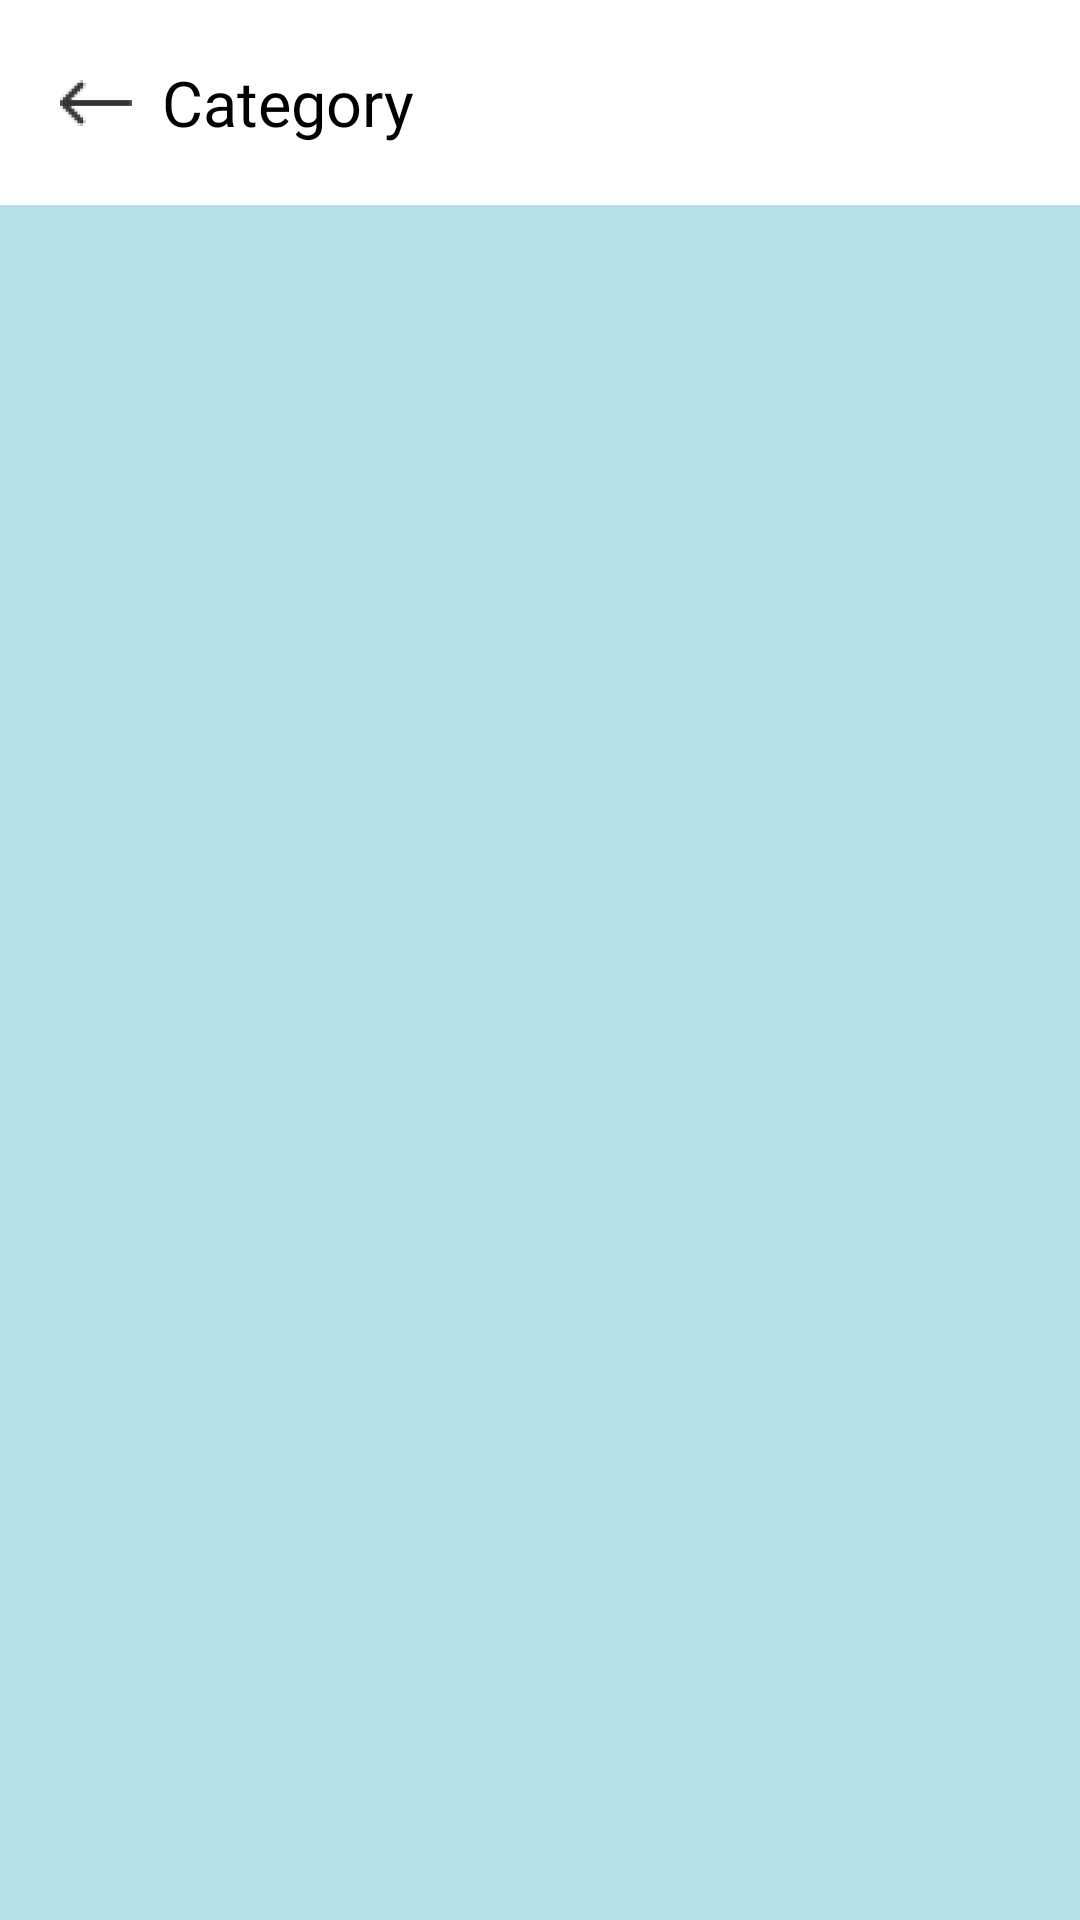

Screen size 1080px x 1920px. Icon name, then its box in pixels as (x1, y1, x2, y2):
back: (60, 80, 132, 126)
